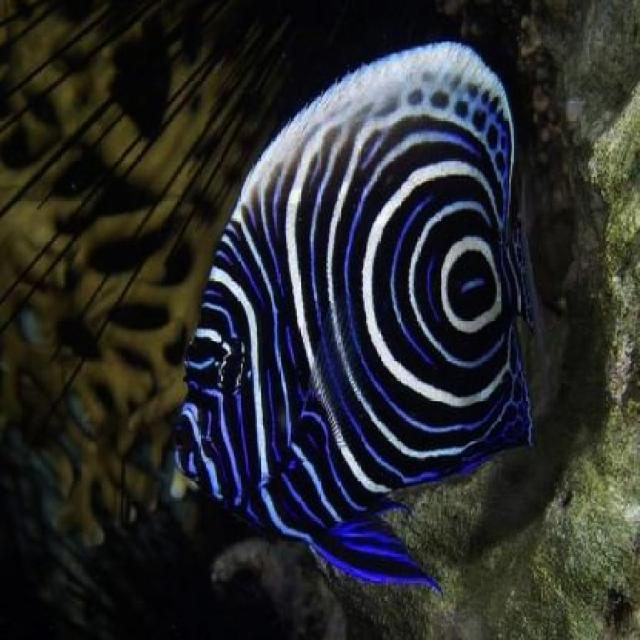AngelFish: (177, 45, 532, 598)
